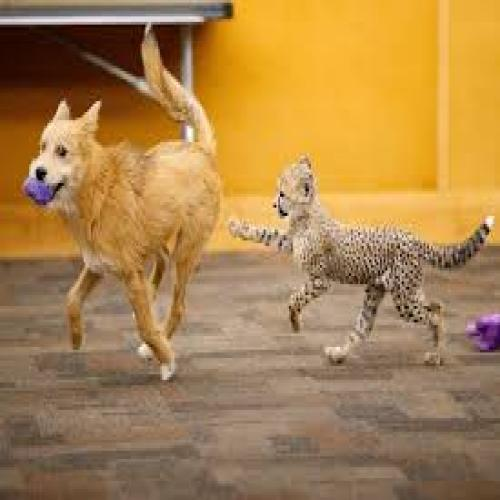cheetah-endangered: (228, 157, 495, 367)
